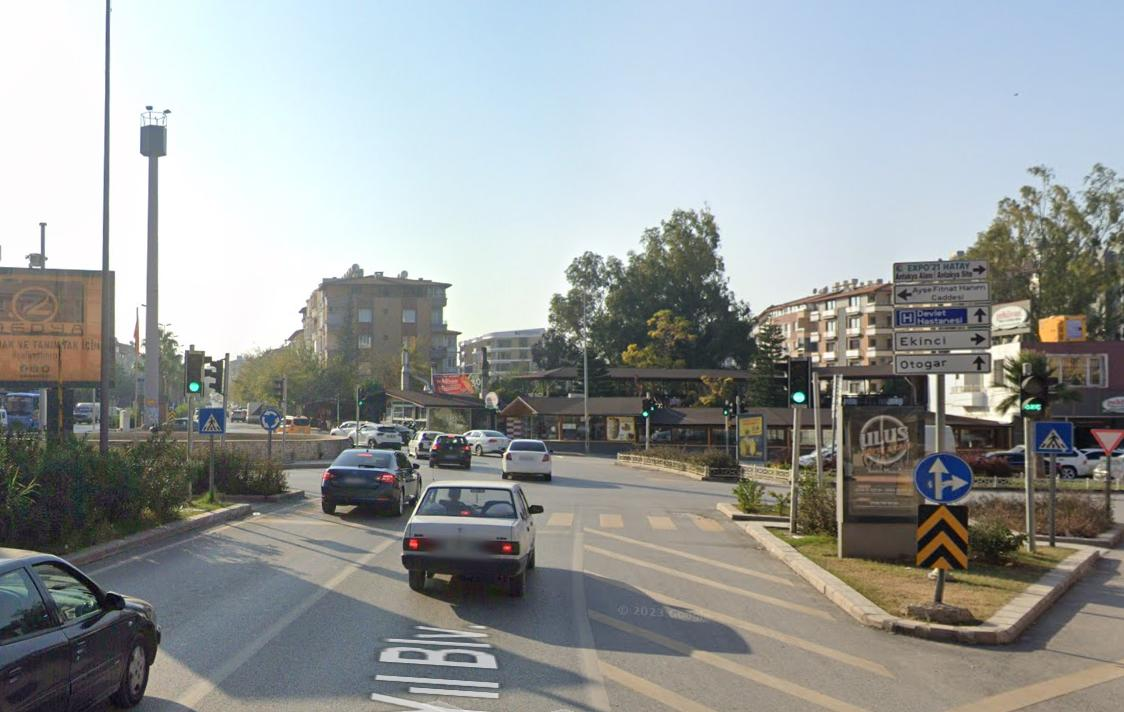crossroads: (263, 409, 281, 431)
greenlight: (185, 349, 206, 396), (789, 358, 808, 405), (358, 386, 366, 407), (642, 398, 650, 419), (724, 397, 731, 418)
